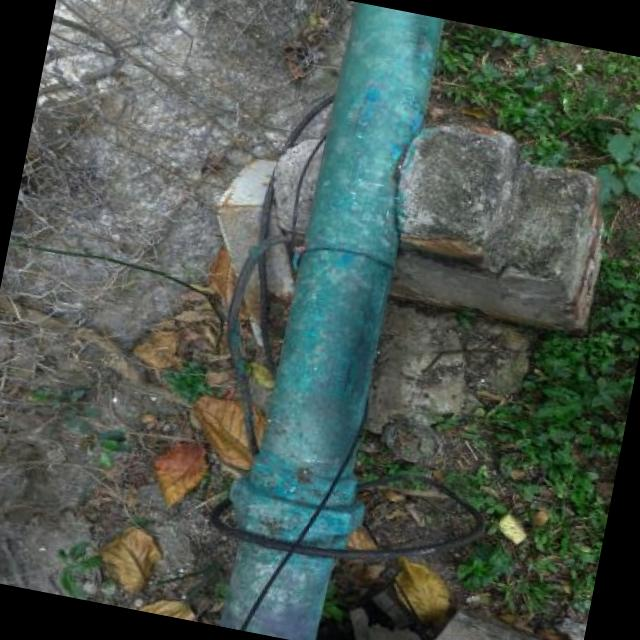gas: (223, 2, 440, 640)
